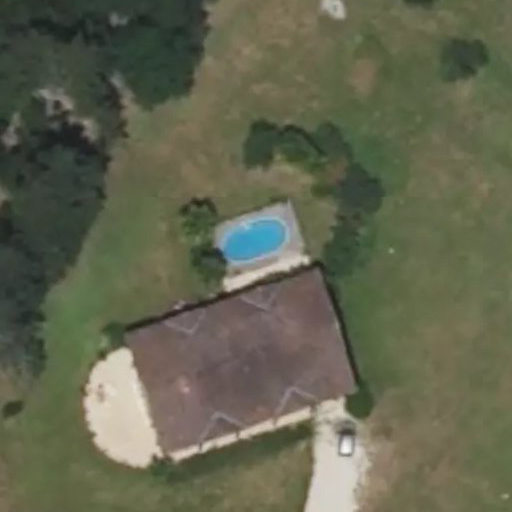pool: (220, 237, 292, 246)
